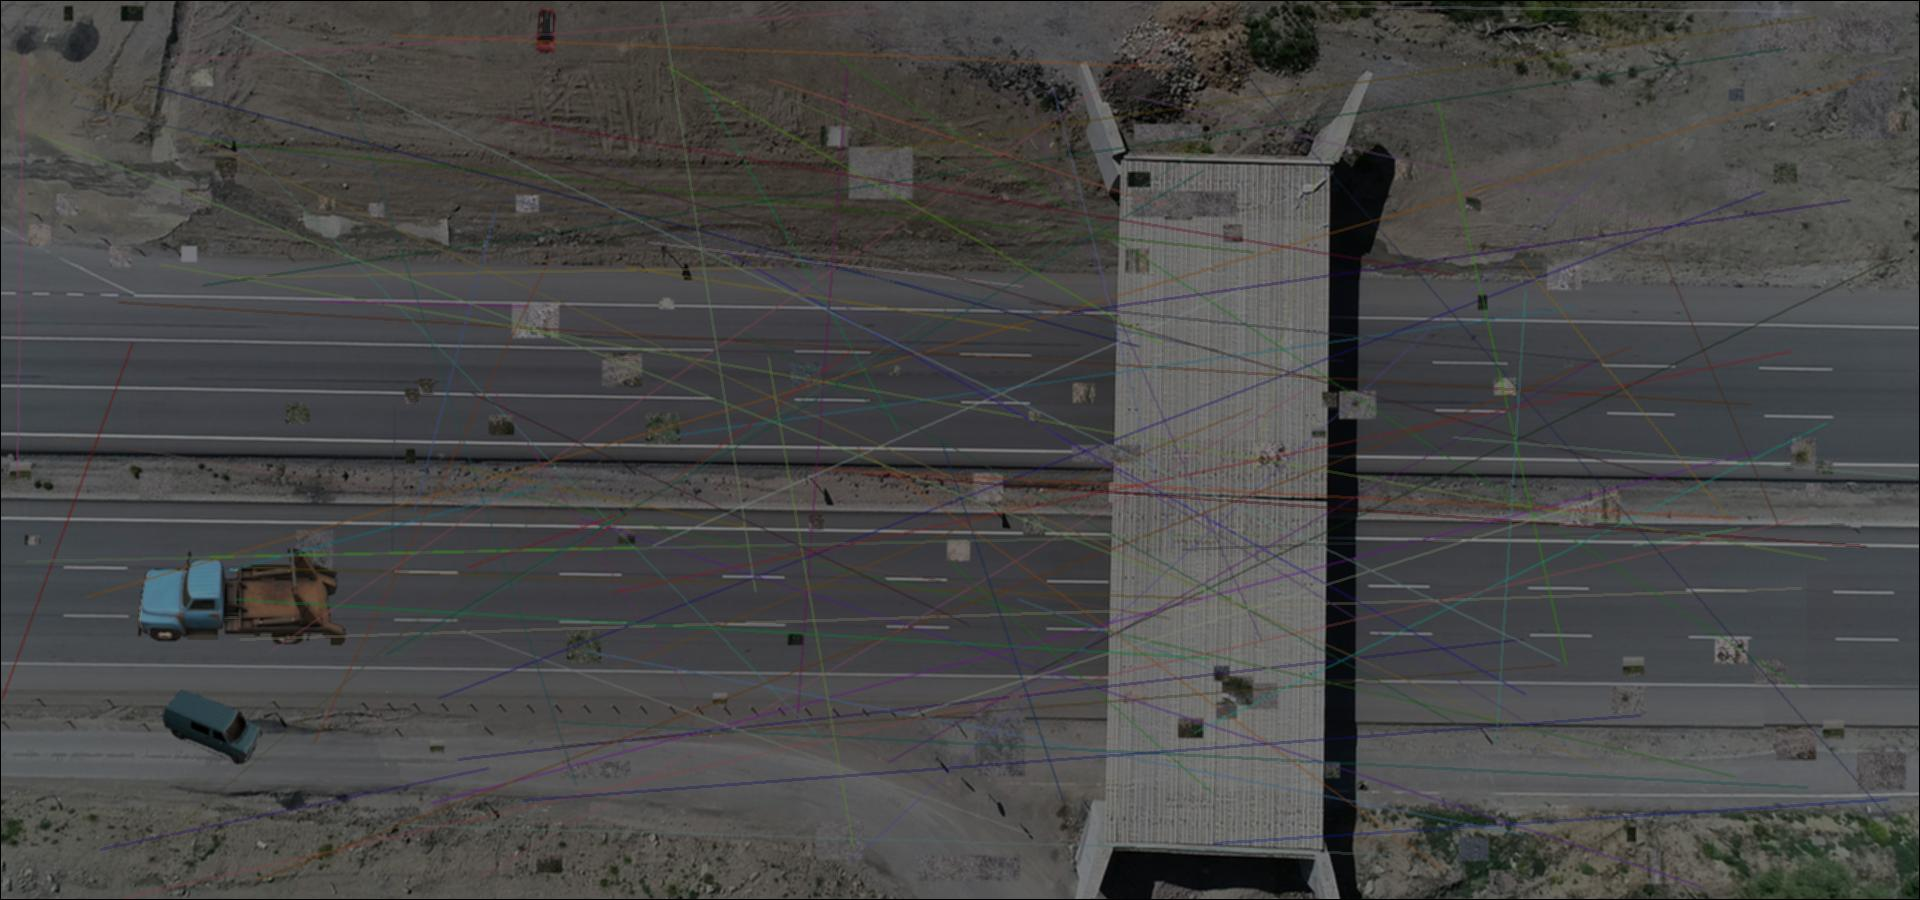arac: (138, 549, 347, 651), (162, 688, 262, 765), (534, 7, 557, 55)
